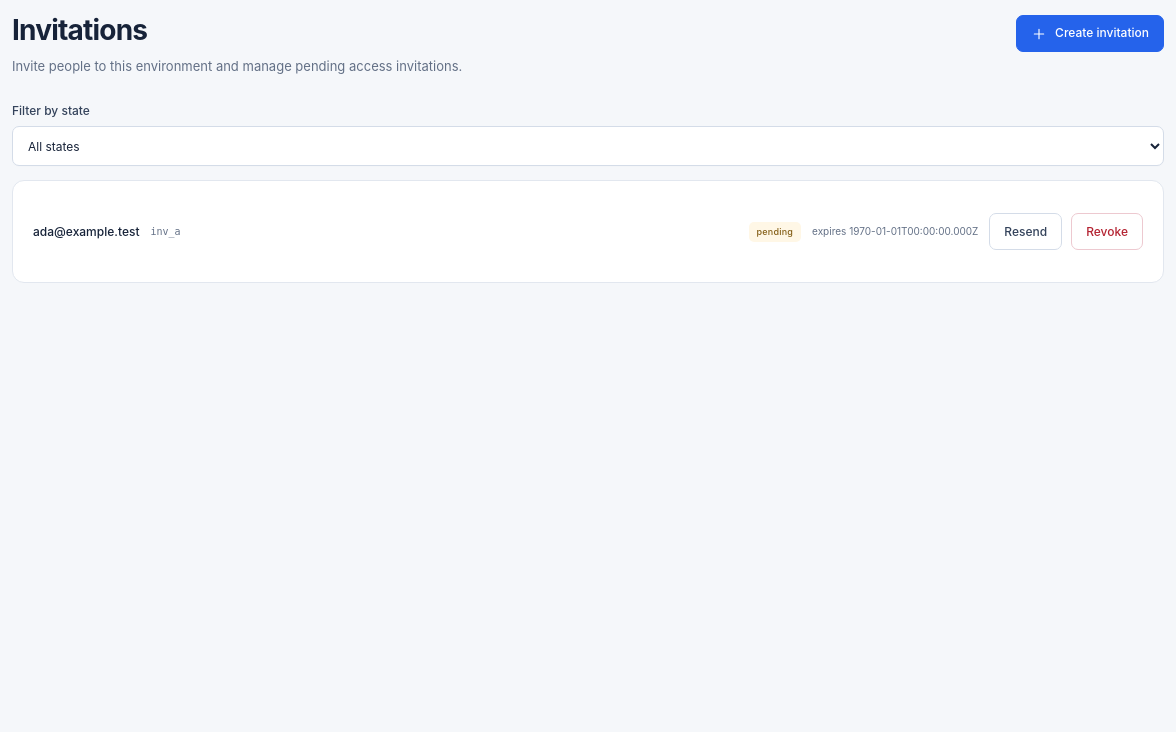
Scenario: acting on a pending invitation › resends and surfaces the fresh copy-once token
Click the button "Resend": point(1026, 232) [989, 213, 1062, 250]
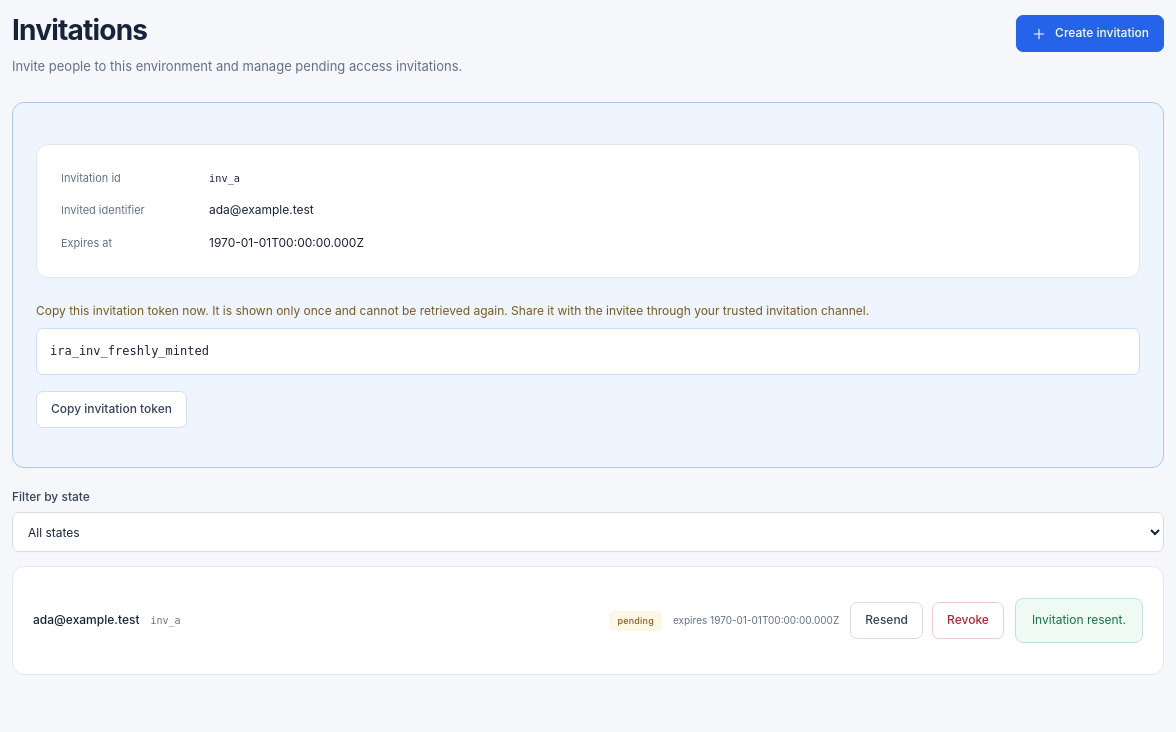
Check: the text "ira_inv_freshly_minted" is shown, box [36, 328, 1140, 375]
Check: the text "Invitation resent." is shown, box [1015, 598, 1143, 643]
